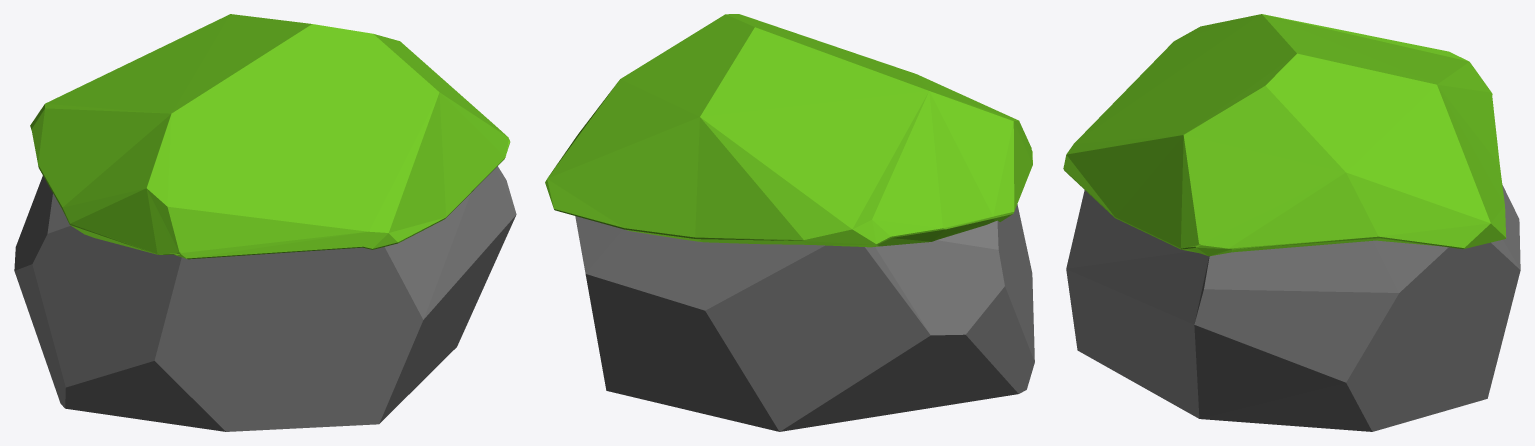
The model's file is MossyStoneRock.fbx.
The picture shows the model from 3 angles, left to right: view 1: azimuth 30°, elevation 25°; view 2: azimuth 150°, elevation 25°; view 3: azimuth 270°, elevation 25°; orthographic projection. The views are drawn at different scales.
Parts seen in each view (by area): view 1: MossyStoneRock_Moss, MossyStoneRock; view 2: MossyStoneRock_Moss, MossyStoneRock; view 3: MossyStoneRock_Moss, MossyStoneRock.
Part boxes in pixels (box(x1,y1,x2,y2)): MossyStoneRock_Moss: box(30, 14, 510, 259); MossyStoneRock: box(14, 166, 516, 431); MossyStoneRock_Moss: box(545, 14, 1032, 247); MossyStoneRock: box(575, 204, 1034, 431); MossyStoneRock_Moss: box(1063, 14, 1506, 256); MossyStoneRock: box(1066, 185, 1520, 431).
Bounding box in the file's own units: 6.65 × 4.71 × 6.16.
